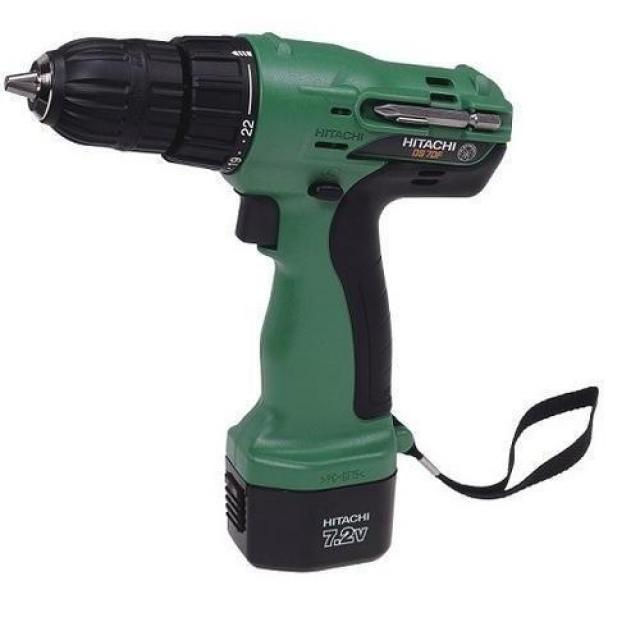drill: (3, 30, 514, 574)
